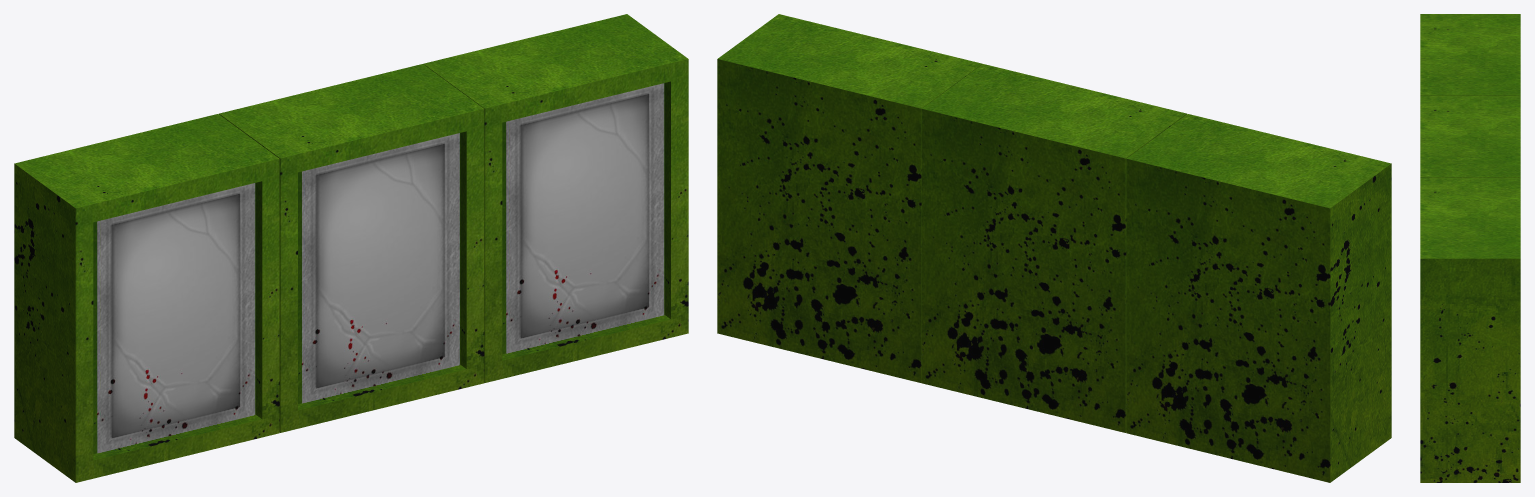
File: cabinet-top.FBX
3 views of the same model, side by side, from view 1: azimuth 30°, elevation 25°; view 2: azimuth 150°, elevation 25°; view 3: azimuth 270°, elevation 25° (orthographic). The views are drawn at different scales.
Parts seen in each view (by area): view 1: Box013, Box018, Box019; view 2: Box013, Box018, Box019; view 3: Box019, Box018, Box013.
Boxes of the visible parts, <box> form: Box013: <box>14,114,279,482</box>; Box018: <box>219,64,484,432</box>; Box019: <box>423,14,688,382</box>; Box013: <box>1126,114,1391,482</box>; Box018: <box>921,64,1186,432</box>; Box019: <box>717,14,982,382</box>; Box019: <box>1420,177,1520,482</box>; Box018: <box>1420,95,1520,177</box>; Box013: <box>1420,14,1520,95</box>.
Bounding box in the file's own units: 105 × 45.07 × 18.27.
1 material, 1 textured.
